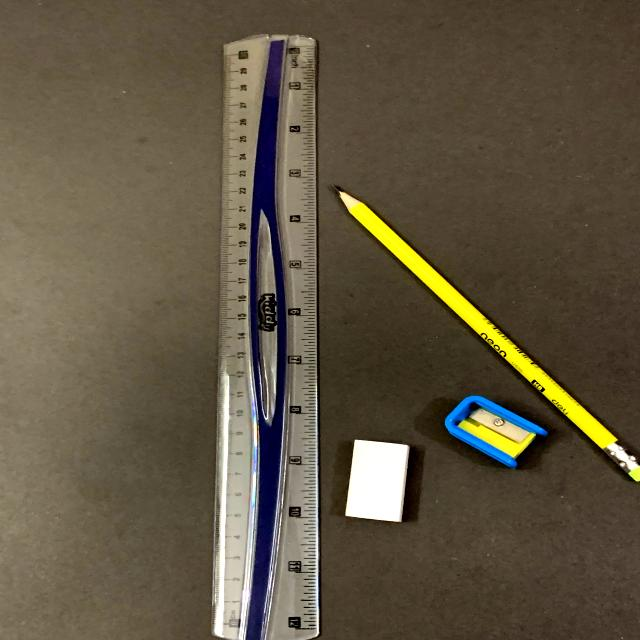Eraser: (319, 429, 437, 537)
Pencil: (322, 170, 640, 495)
Scale: (200, 21, 333, 638)
Sharpner: (415, 376, 573, 483)
